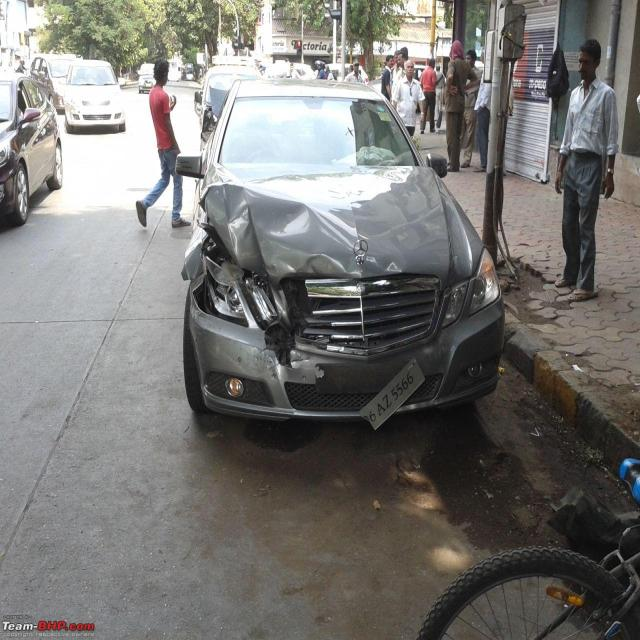accident: (180, 82, 505, 427)
